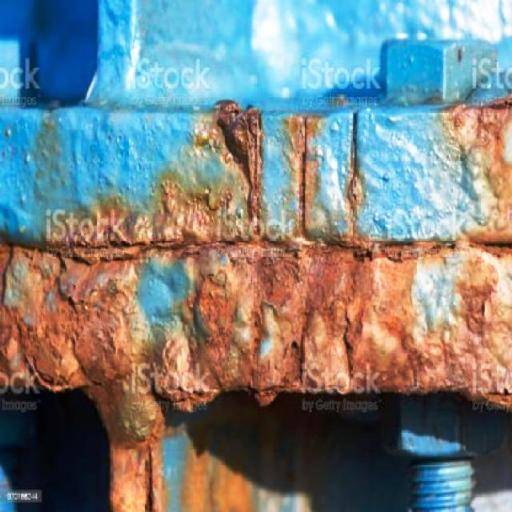corrosion: (0, 234, 512, 410), (209, 90, 271, 224), (446, 99, 512, 211)
crack: (342, 111, 372, 239), (296, 113, 316, 240), (140, 443, 168, 512)
